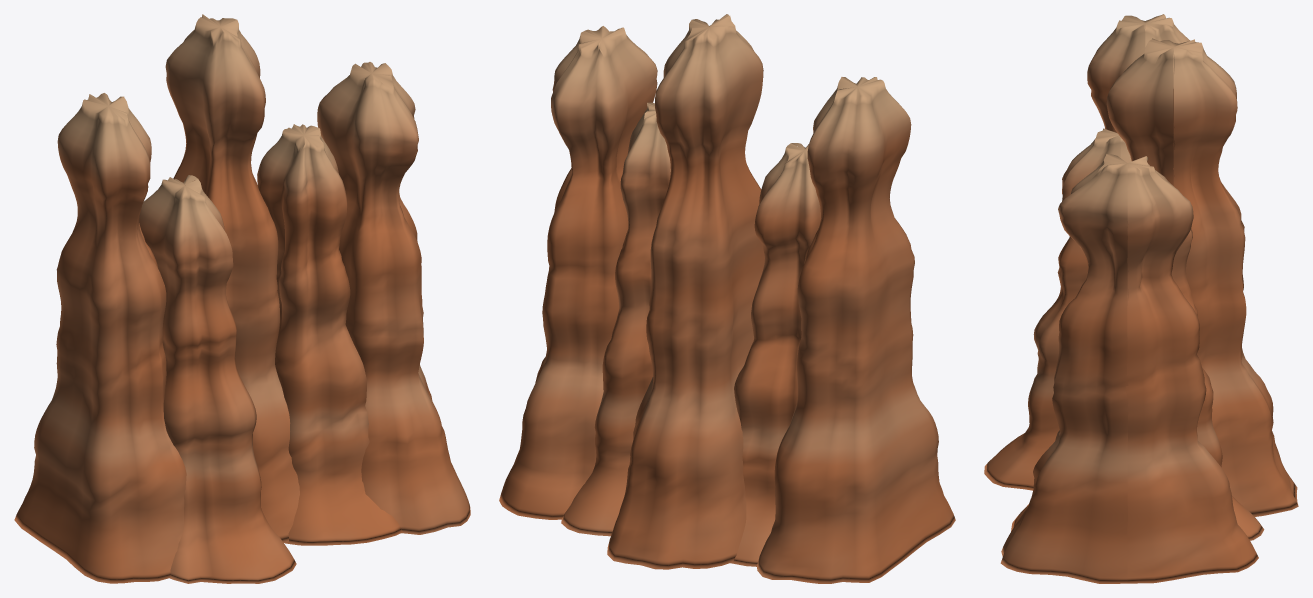
Rendered from hoodoo-buttress.glb.
3 views of the same model, side by side, from view 1: azimuth 30°, elevation 25°; view 2: azimuth 150°, elevation 25°; view 3: azimuth 270°, elevation 25° (orthographic). The views are drawn at different scales.
Parts seen in each view (by area): view 1: hoodoo-buttress; view 2: hoodoo-buttress; view 3: hoodoo-buttress.
Boxes of the visible parts, x1,y1,x2,y2 form: hoodoo-buttress: [14, 14, 470, 583]; hoodoo-buttress: [499, 14, 955, 583]; hoodoo-buttress: [984, 14, 1298, 583].
Size of the model in its own units: 26.91 by 32.35 by 20.34.
